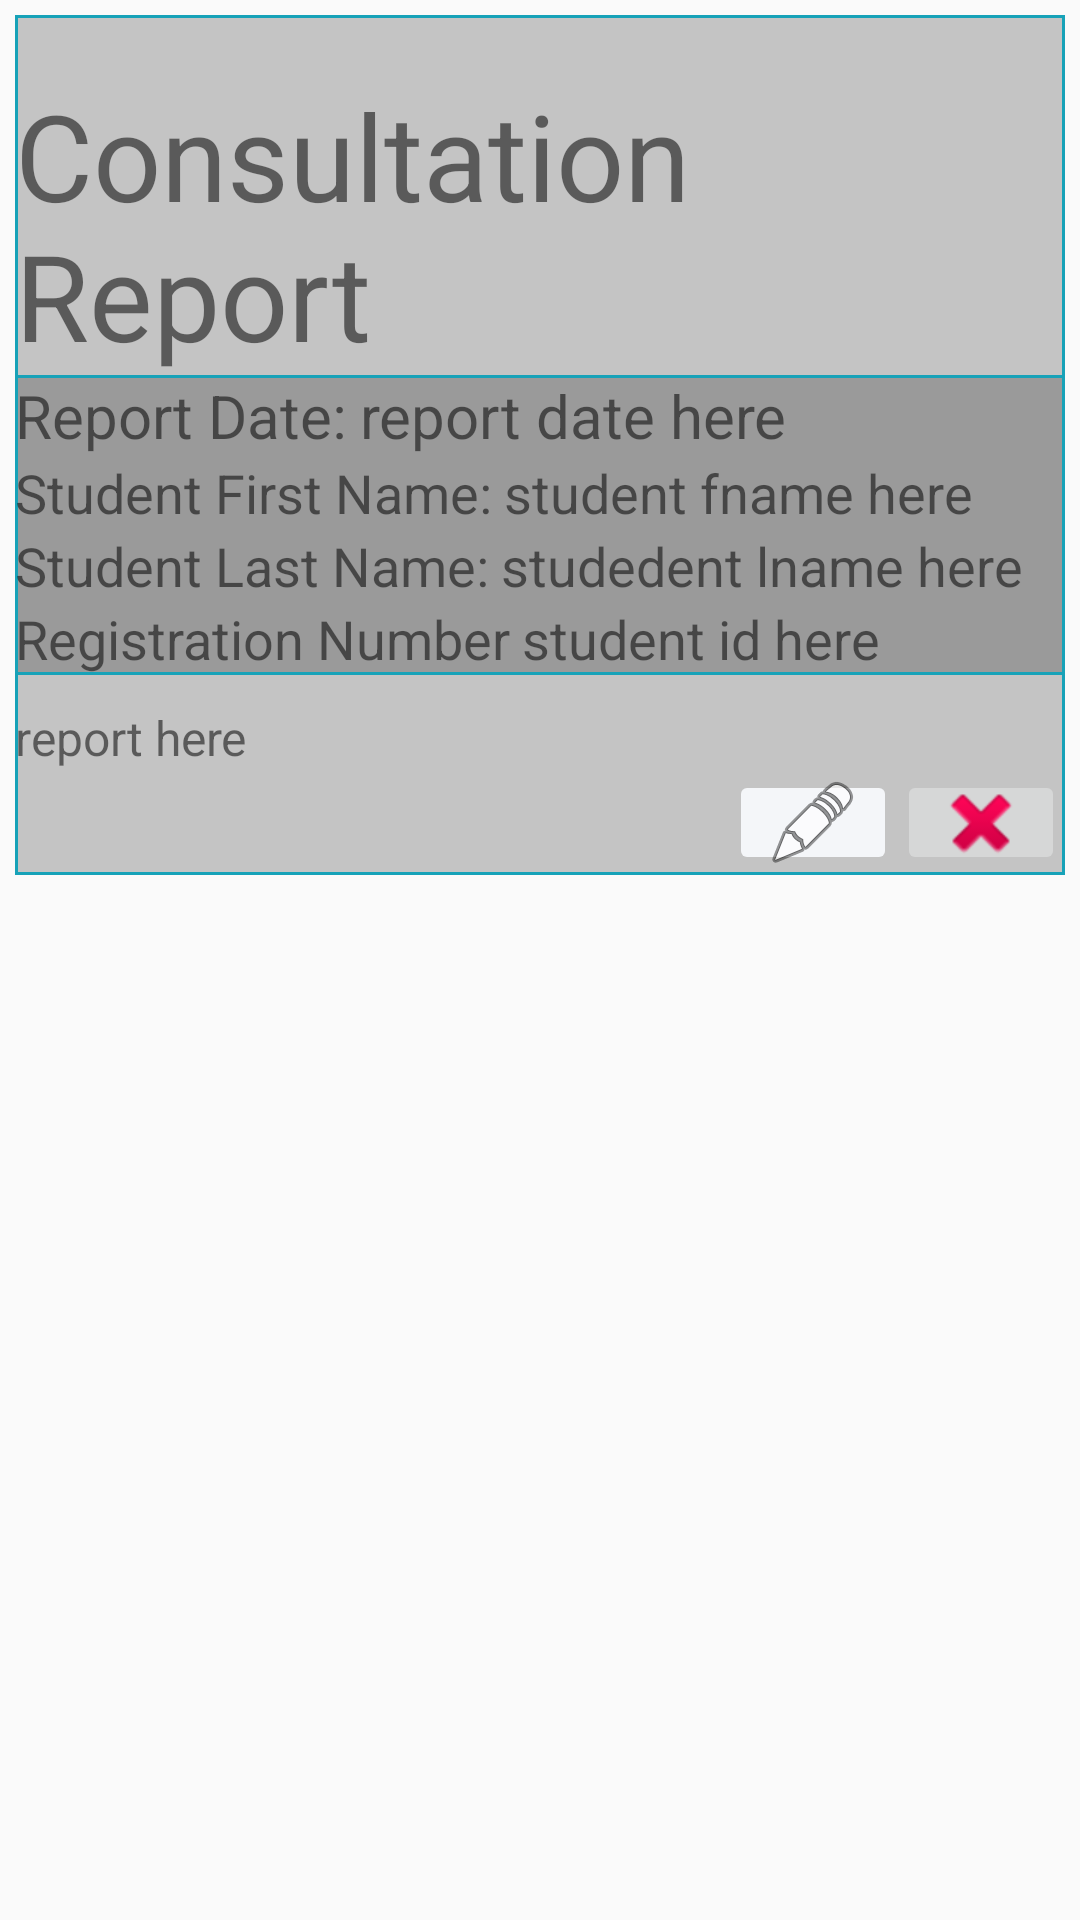

Screen size 1080*1920. Icon name, then its center in pixels as (x,y):
delete: (981,822)
edit: (813,822)
